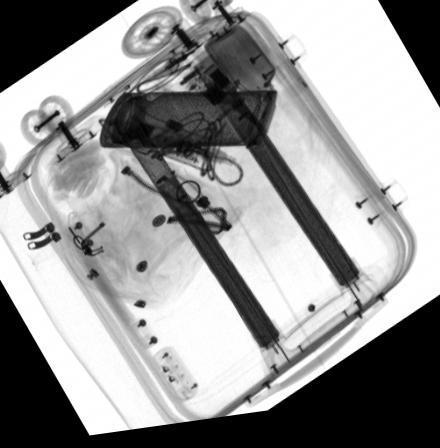Scissors: (182, 57, 272, 144)
